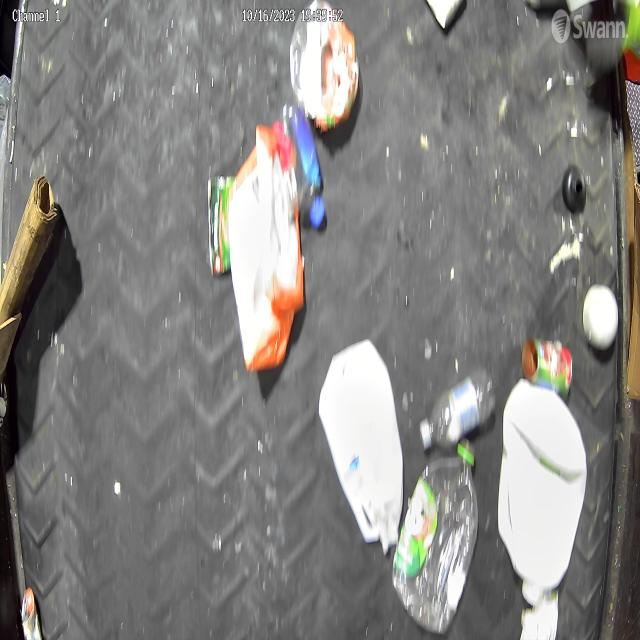can: (521, 337, 573, 398)
milk_jug: (496, 376, 588, 609), (318, 338, 406, 558)
plastic_bottle: (392, 436, 479, 635), (418, 364, 497, 452), (280, 103, 326, 230)
